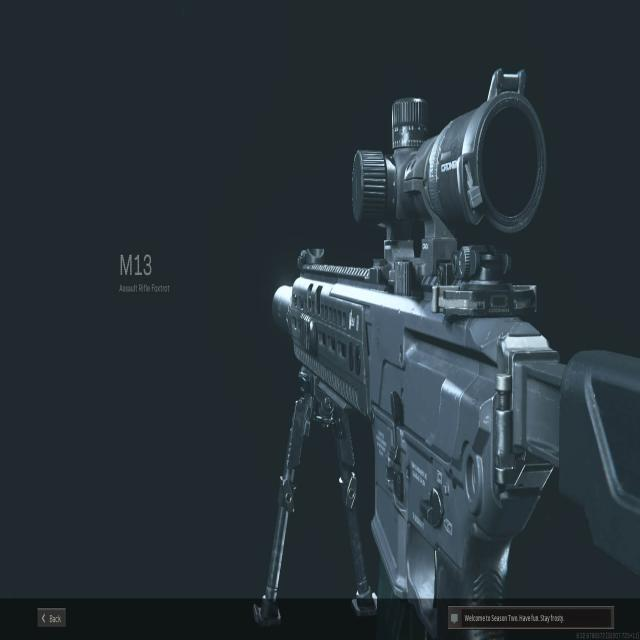Rifle: (273, 69, 640, 640)
